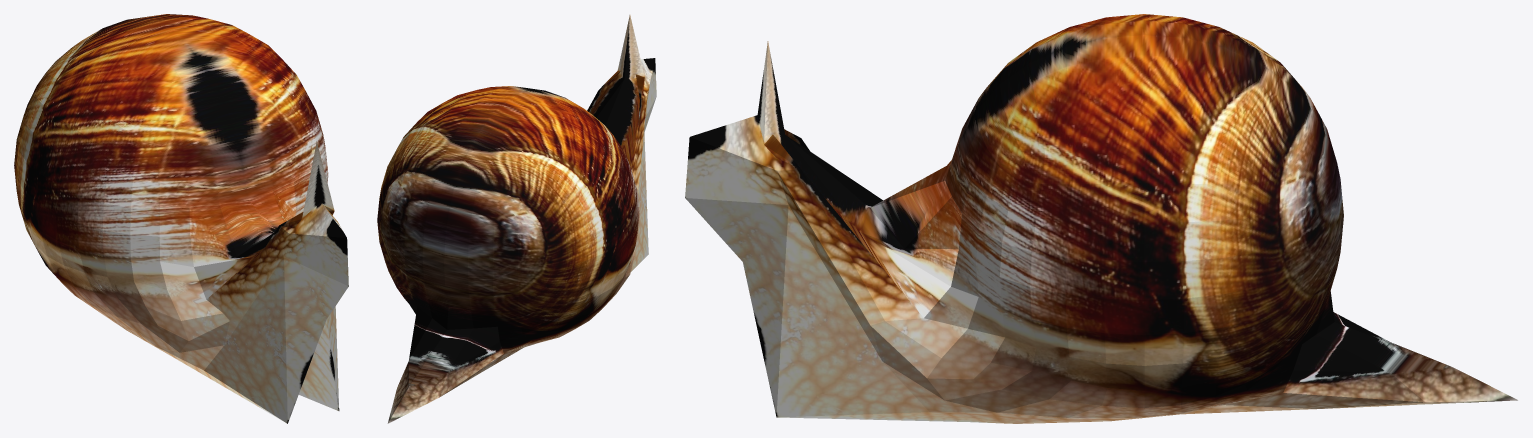
The model's file is Snail.fbx.
The picture shows the model from 3 angles, left to right: view 1: azimuth 30°, elevation 25°; view 2: azimuth 150°, elevation 25°; view 3: azimuth 270°, elevation 25°; orthographic projection. The views are drawn at different scales.
Parts seen in each view (by area): view 1: Cube; view 2: Cube; view 3: Cube.
Boxes of the visible parts, x1,y1,x2,y2 form: Cube: [14, 14, 348, 423]; Cube: [377, 15, 656, 423]; Cube: [685, 14, 1517, 423].
Size of the model in its own units: 27.8 by 28.63 by 58.12.
